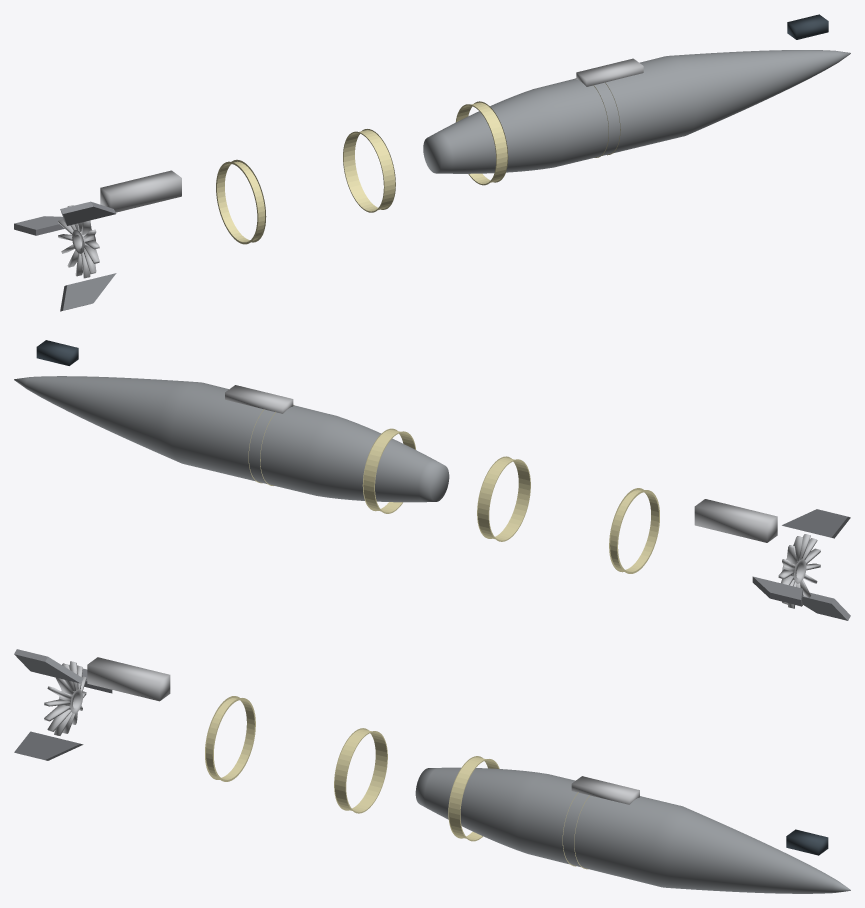
Rendered from RU_TORP_UGST_LOD0.fbx.
3 renders of one model, top to bottom at view 1: azimuth 30°, elevation 25°; view 2: azimuth 150°, elevation 25°; view 3: azimuth 330°, elevation 25°, orthographic.
Parts seen in each view (by area): view 1: WPN_RU_TORP_UGST_LOD0_Body, WPN_RU_TORP_UGST_LOD0_Marking, WPN_RU_TORP_UGST_LOD0_Detail, WPN_RU_TORP_UGST_LOD0_Fins, WPN_RU_TORP_UGST_LOD0_Propulsor, WPN_RU_TORP_UGST_LOD0_Seeker; view 2: WPN_RU_TORP_UGST_LOD0_Body, WPN_RU_TORP_UGST_LOD0_Marking, WPN_RU_TORP_UGST_LOD0_Detail, WPN_RU_TORP_UGST_LOD0_Fins, WPN_RU_TORP_UGST_LOD0_Propulsor, WPN_RU_TORP_UGST_LOD0_Seeker; view 3: WPN_RU_TORP_UGST_LOD0_Body, WPN_RU_TORP_UGST_LOD0_Marking, WPN_RU_TORP_UGST_LOD0_Detail, WPN_RU_TORP_UGST_LOD0_Fins, WPN_RU_TORP_UGST_LOD0_Propulsor, WPN_RU_TORP_UGST_LOD0_Seeker.
Boxes of the visible parts, bbox=[...] form: WPN_RU_TORP_UGST_LOD0_Body: bbox=[423, 50, 850, 173]; WPN_RU_TORP_UGST_LOD0_Marking: bbox=[216, 78, 620, 244]; WPN_RU_TORP_UGST_LOD0_Detail: bbox=[100, 58, 643, 212]; WPN_RU_TORP_UGST_LOD0_Fins: bbox=[14, 201, 116, 311]; WPN_RU_TORP_UGST_LOD0_Propulsor: bbox=[58, 205, 99, 278]; WPN_RU_TORP_UGST_LOD0_Seeker: bbox=[787, 14, 828, 39]; WPN_RU_TORP_UGST_LOD0_Body: bbox=[14, 376, 449, 502]; WPN_RU_TORP_UGST_LOD0_Marking: bbox=[248, 409, 659, 573]; WPN_RU_TORP_UGST_LOD0_Detail: bbox=[225, 385, 777, 542]; WPN_RU_TORP_UGST_LOD0_Fins: bbox=[752, 509, 850, 620]; WPN_RU_TORP_UGST_LOD0_Propulsor: bbox=[778, 534, 820, 608]; WPN_RU_TORP_UGST_LOD0_Seeker: bbox=[36, 340, 78, 365]; WPN_RU_TORP_UGST_LOD0_Body: bbox=[415, 767, 850, 893]; WPN_RU_TORP_UGST_LOD0_Marking: bbox=[205, 696, 589, 869]; WPN_RU_TORP_UGST_LOD0_Detail: bbox=[87, 657, 639, 804]; WPN_RU_TORP_UGST_LOD0_Fins: bbox=[14, 649, 112, 760]; WPN_RU_TORP_UGST_LOD0_Propulsor: bbox=[44, 661, 86, 735]; WPN_RU_TORP_UGST_LOD0_Seeker: bbox=[786, 829, 828, 855].
Size of the model in its own units: 6.02 by 0.6853 by 0.7328.
